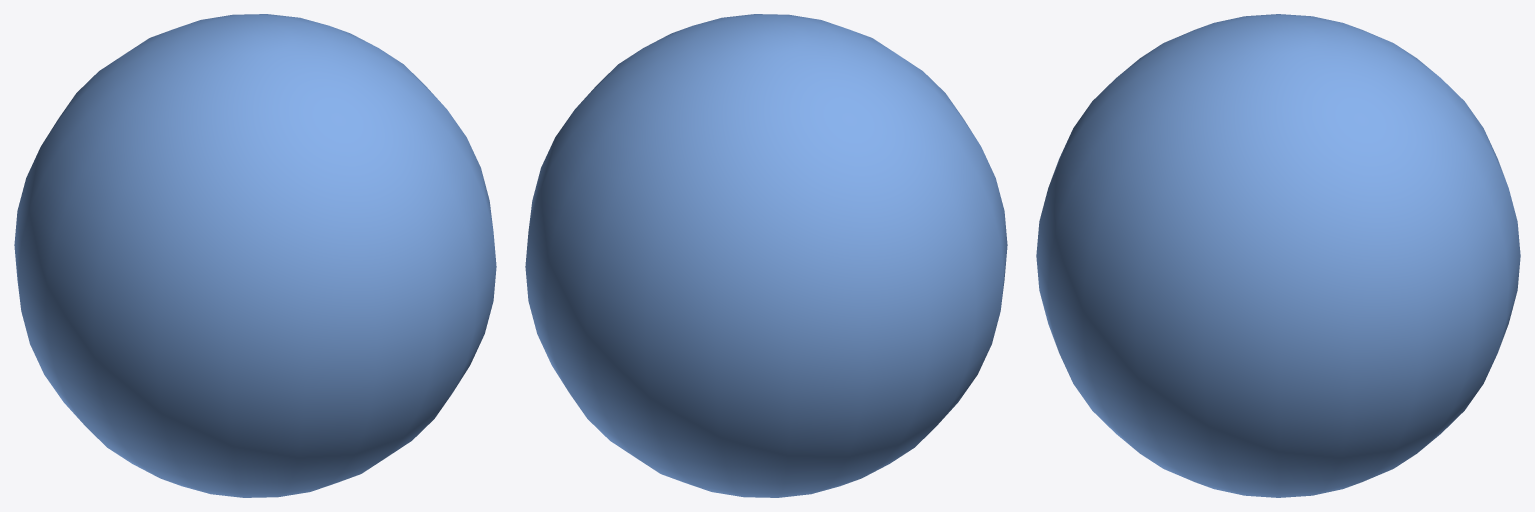
The model's file is WaterRockProjectile.fbx.
The picture shows the model from 3 angles, left to right: view 1: azimuth 30°, elevation 25°; view 2: azimuth 150°, elevation 25°; view 3: azimuth 270°, elevation 25°; orthographic projection.
Visible parts, largest first — view 1: pSphere1; view 2: pSphere1; view 3: pSphere1.
Boxes of the visible parts, x1,y1,x2,y2 form: pSphere1: [14, 14, 496, 497]; pSphere1: [525, 14, 1007, 497]; pSphere1: [1036, 14, 1520, 497].
Bounding box in the file's own units: 2.99 × 2.99 × 2.99.
